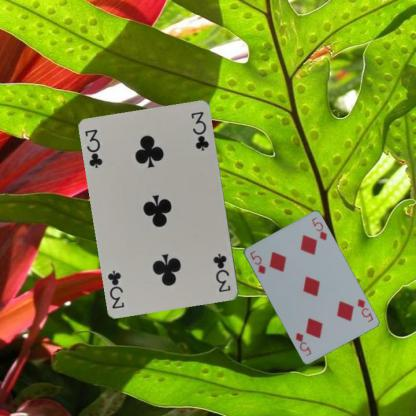3c: (210, 251, 233, 294), (83, 126, 104, 170)
5d: (354, 296, 375, 323), (247, 247, 267, 275)
